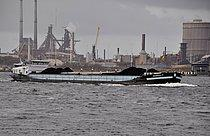Ship: (7, 50, 202, 91)
